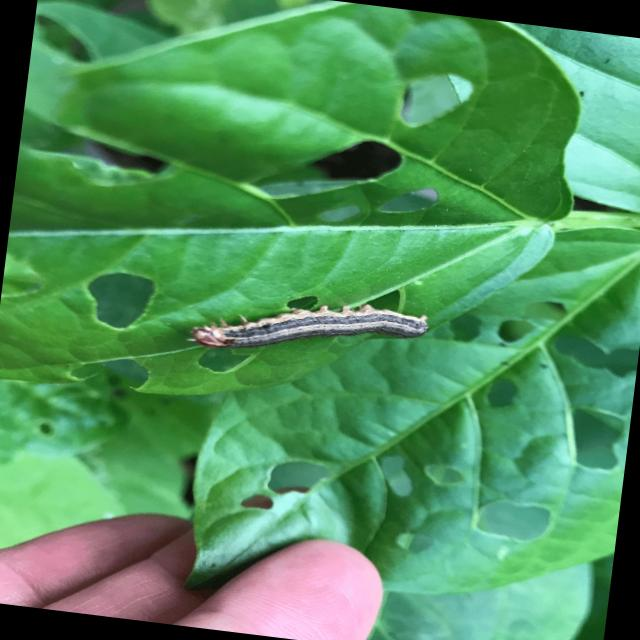Armyworm: (190, 271, 434, 381)
Armyworm_damage: (201, 106, 421, 222), (60, 251, 193, 346), (250, 447, 368, 512), (398, 58, 490, 138), (464, 492, 556, 558), (557, 310, 640, 382), (563, 398, 633, 479), (372, 179, 446, 239), (374, 439, 429, 505), (305, 191, 362, 232), (392, 524, 440, 565), (227, 487, 286, 520), (419, 458, 478, 489), (444, 306, 489, 341), (495, 312, 530, 346)
